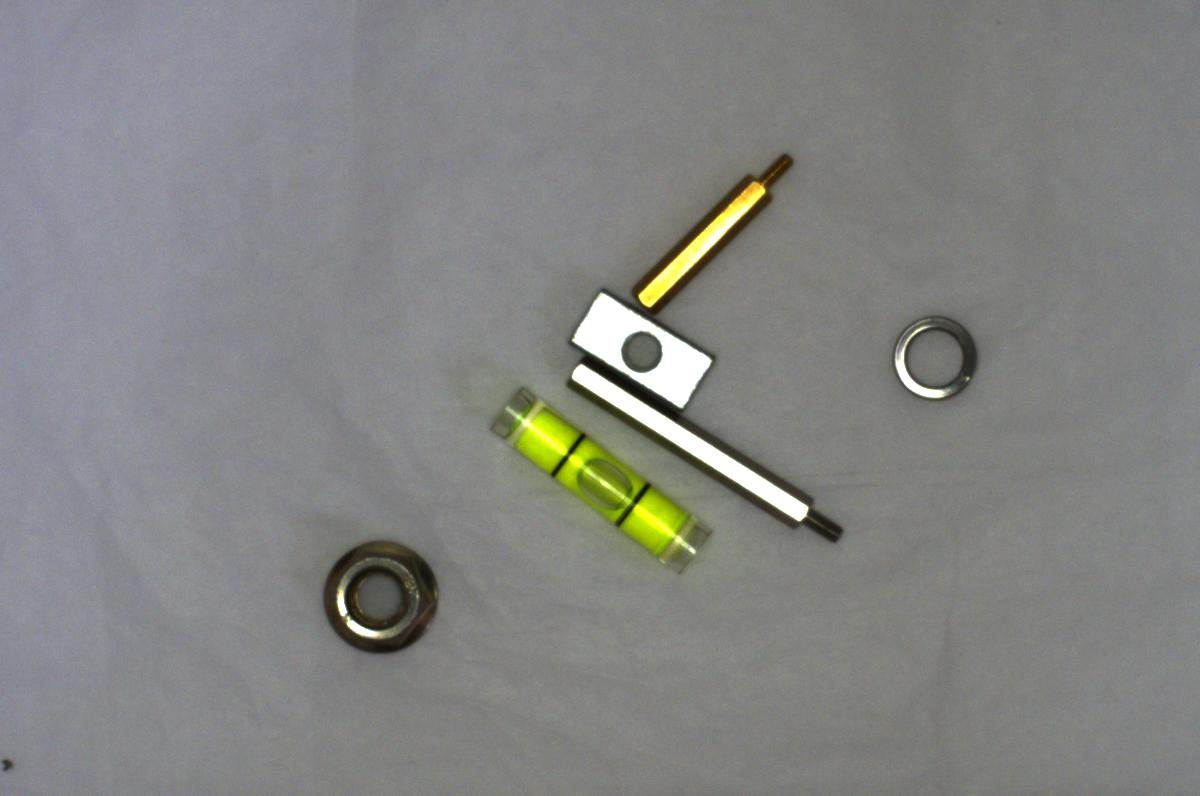Flange nut: (315, 530, 448, 662)
Hexagon pillar: (627, 139, 793, 316)
Hexagonal steel column: (559, 358, 846, 543)
Horizontal bubble: (474, 386, 719, 581)
Rectangular nut: (561, 289, 725, 415)
Spring washer: (890, 308, 993, 408)
